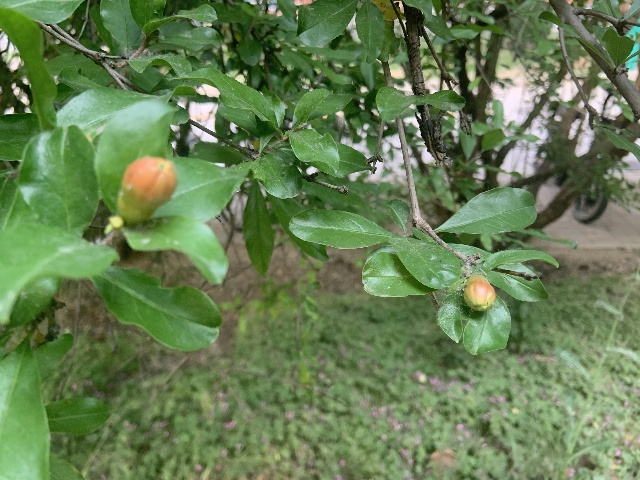bud: (117, 156, 177, 224), (463, 275, 496, 310)
